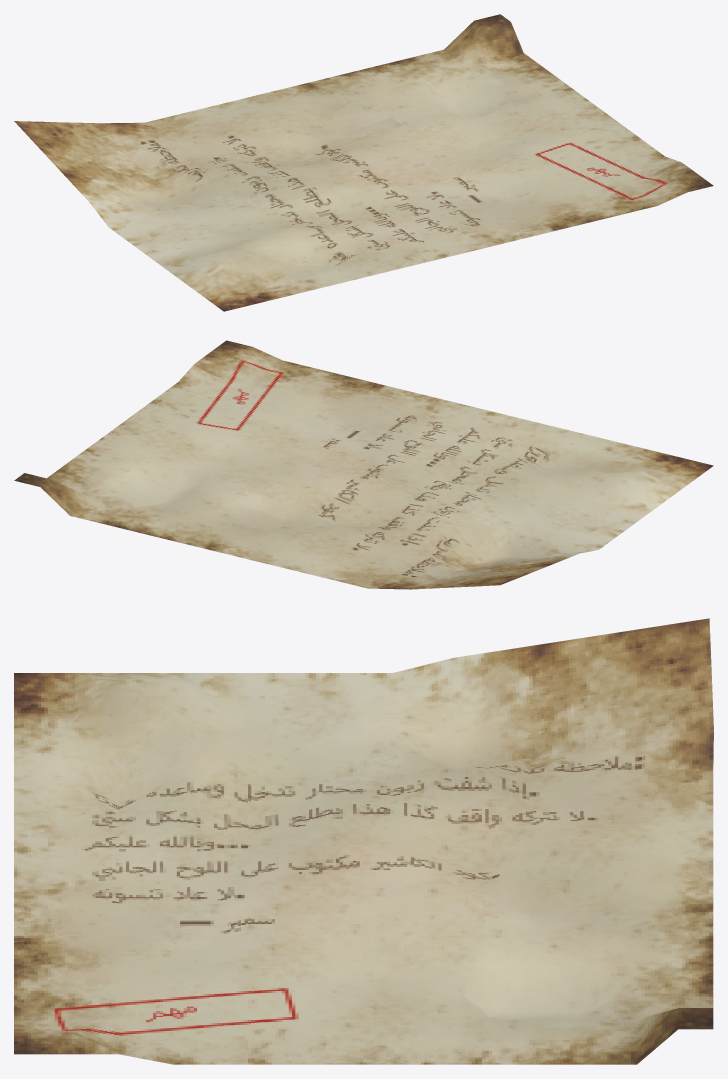
File: NOTE 1.fbx
The picture shows the model from 3 angles, top to bottom: view 1: azimuth 30°, elevation 25°; view 2: azimuth 150°, elevation 25°; view 3: azimuth 270°, elevation 25°; orthographic projection. The views are drawn at different scales.
Visible parts, largest first — view 1: pCube1; view 2: pCube1; view 3: pCube1.
Boxes of the visible parts, x1,y1,x2,y2 form: pCube1: [14, 14, 713, 311]; pCube1: [14, 340, 713, 589]; pCube1: [14, 618, 713, 1064].
Size of the model in its own units: 0.2855 by 0.0277 by 0.2157.
1 material, 1 textured.
